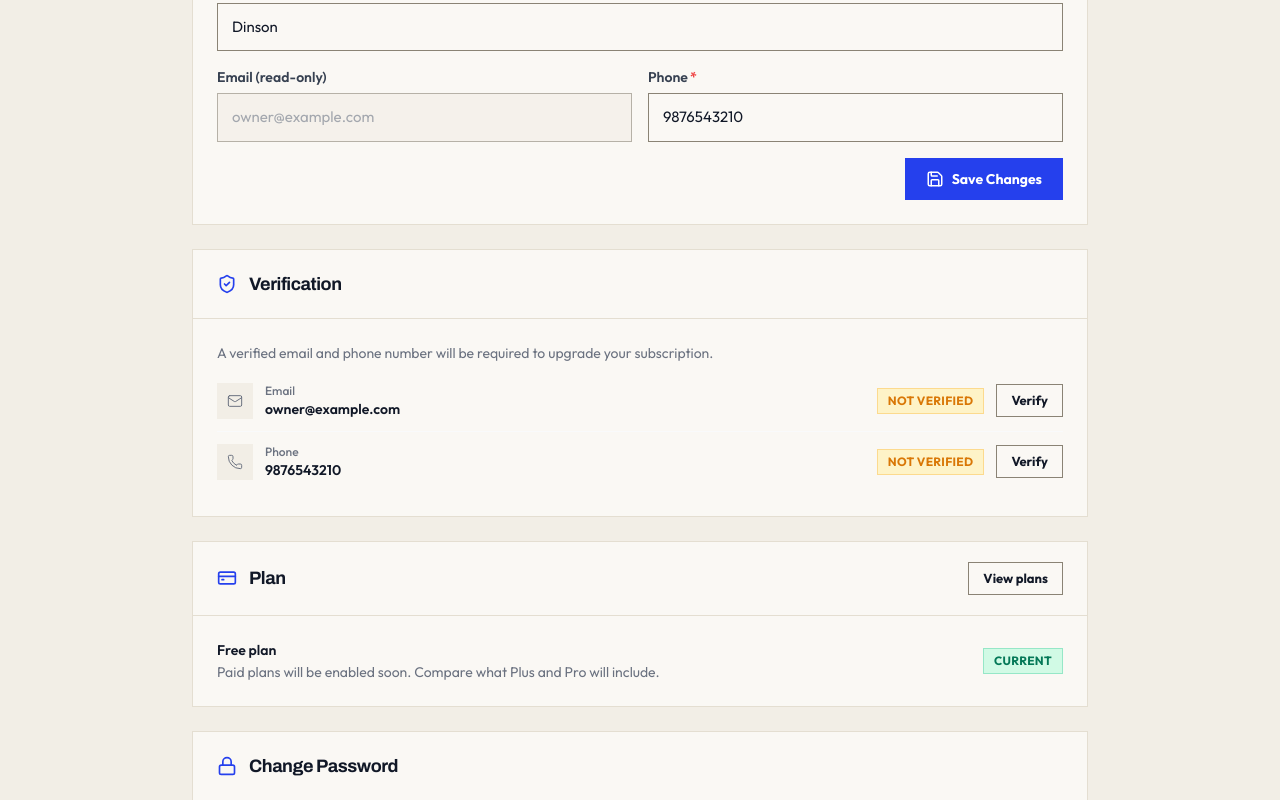
Test: Settings — owner verification card › sends the code on open, confirms what was typed, and refreshes the user
The image size is (1280, 800).
(page scrolled)
Step 1. Click the button with aria-label "Verify email" → click(1030, 401), box [996,384,1063,417]
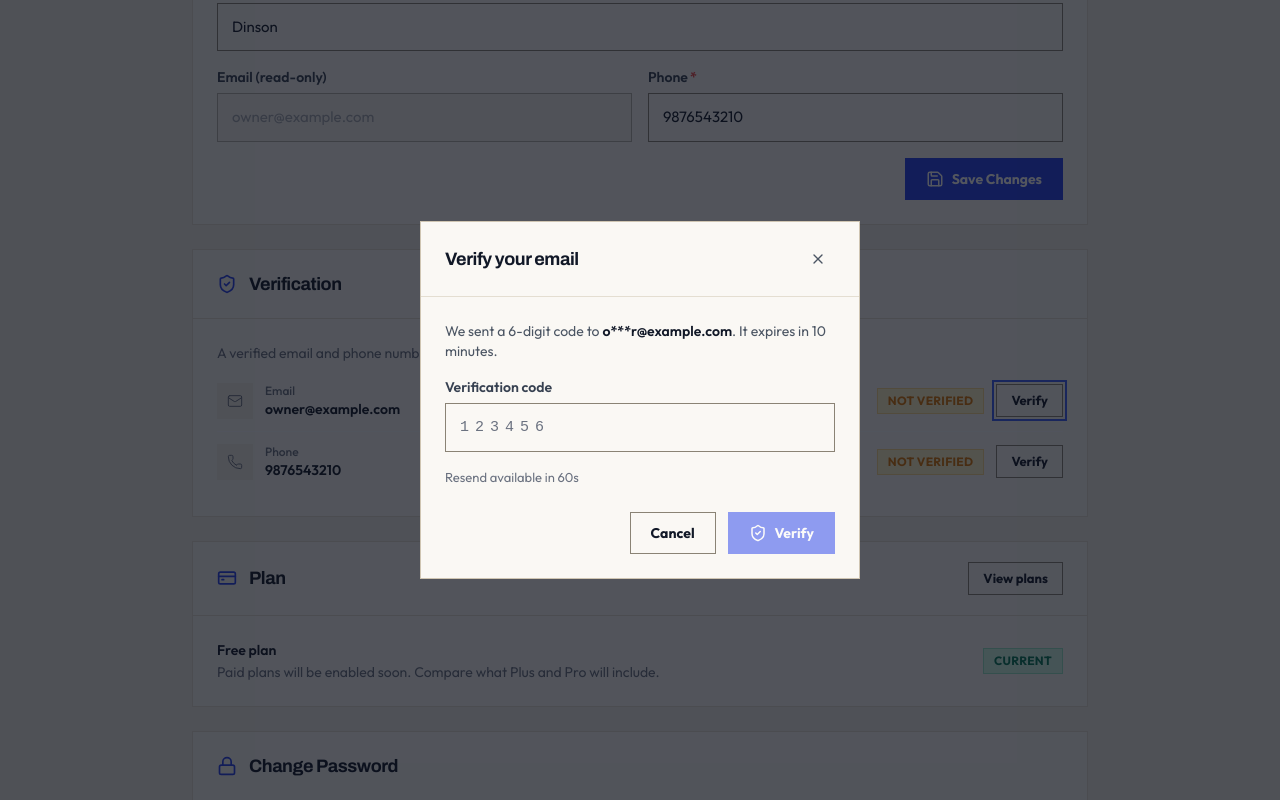
Check: the text "o***r@example.com" is shown, box [602,322,732,340]
Step 2. Type "48 29 13" into the field with placeholder "123456" → (640, 428), box [445,403,835,452]
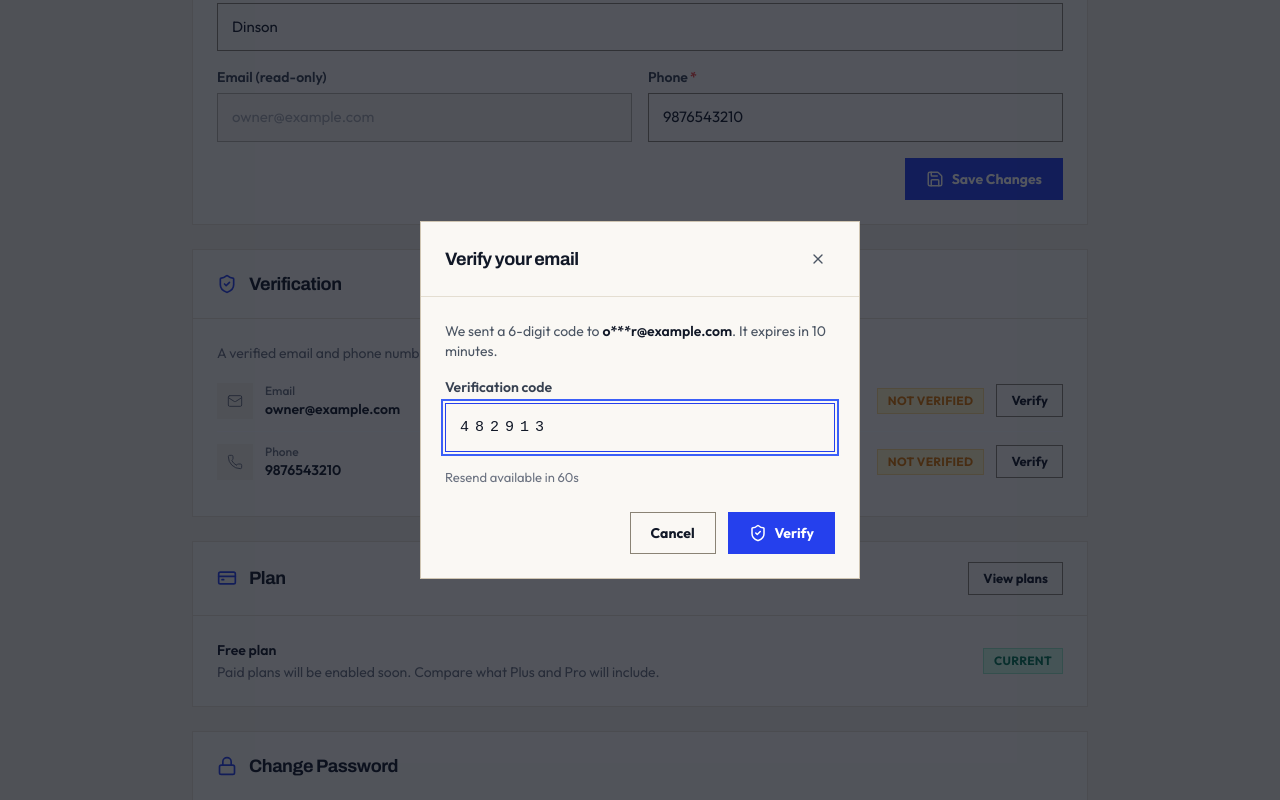
Check: the field with placeholder "123456" holds "482913", box [445,403,835,452]
Step 3. Click the button "Verify" → click(781, 533), box [728,512,835,554]
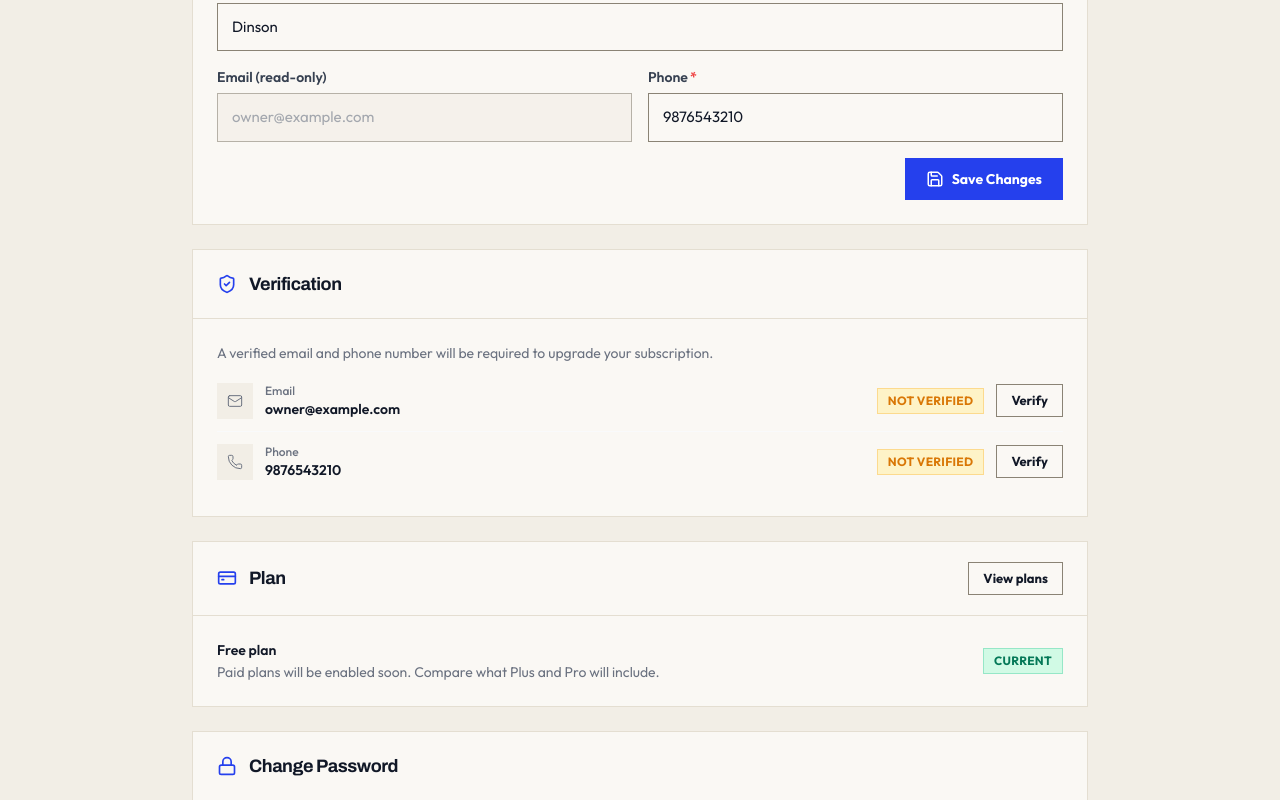
Check: the heading "Verify your email" is gone
